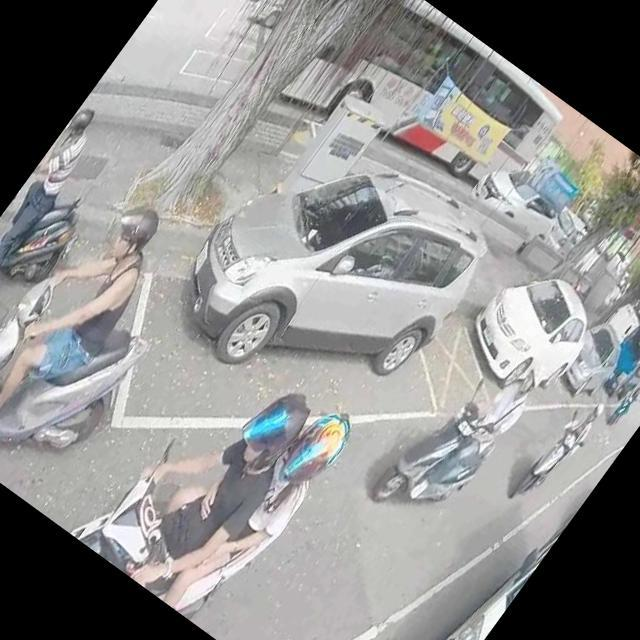person: (118, 364, 359, 636), (87, 348, 326, 614), (0, 183, 184, 465), (396, 342, 546, 519), (0, 101, 116, 324), (522, 392, 608, 495), (611, 377, 640, 423)
